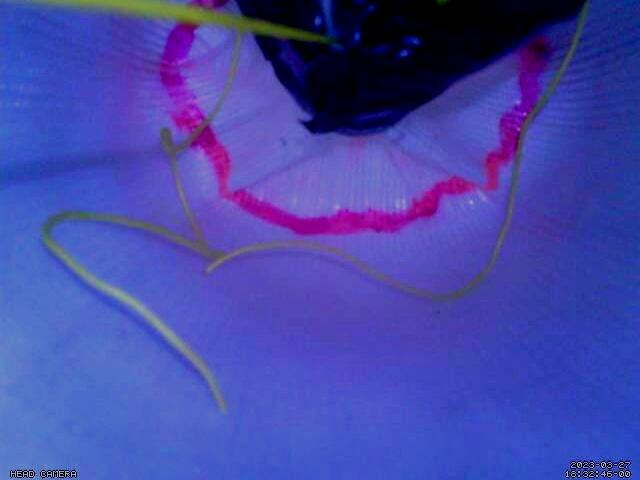head: (157, 0, 557, 239)
